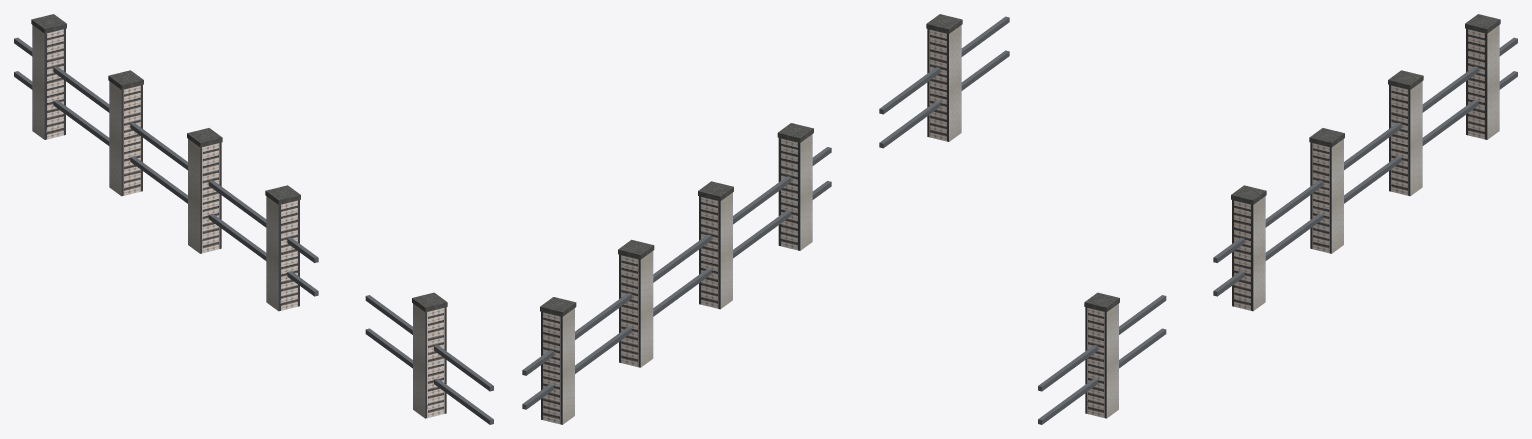
Rendered from Subway03_InterBorder.FBX.
The picture shows the model from 3 angles, left to right: view 1: azimuth 30°, elevation 25°; view 2: azimuth 150°, elevation 25°; view 3: azimuth 330°, elevation 25°; orthographic projection.
Visible parts, largest first — view 1: Subway03_InterBorder01, Subway03_InterBorder03, Subway03_InterBorder02; view 2: Subway03_InterBorder01, Subway03_InterBorder03, Subway03_InterBorder02; view 3: Subway03_InterBorder01, Subway03_InterBorder03, Subway03_InterBorder02.
Part boxes in pixels (x1,y1,x2,y2): Subway03_InterBorder01: (32, 25, 446, 418); Subway03_InterBorder03: (14, 37, 493, 424); Subway03_InterBorder02: (31, 14, 447, 312); Subway03_InterBorder01: (541, 25, 961, 424); Subway03_InterBorder03: (522, 16, 1009, 409); Subway03_InterBorder02: (540, 14, 962, 316); Subway03_InterBorder01: (1085, 25, 1499, 418); Subway03_InterBorder03: (1038, 37, 1517, 424); Subway03_InterBorder02: (1084, 14, 1500, 312).
Bounding box in the file's own units: 283 × 1347 × 10426.
